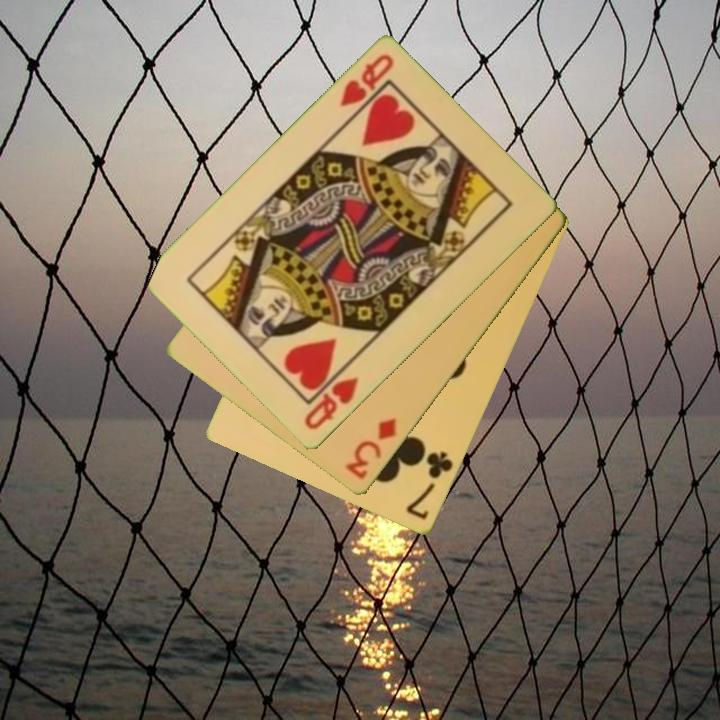3d: (341, 414, 400, 483)
7c: (403, 448, 456, 524)
Qh: (300, 373, 362, 434), (336, 51, 397, 111)
